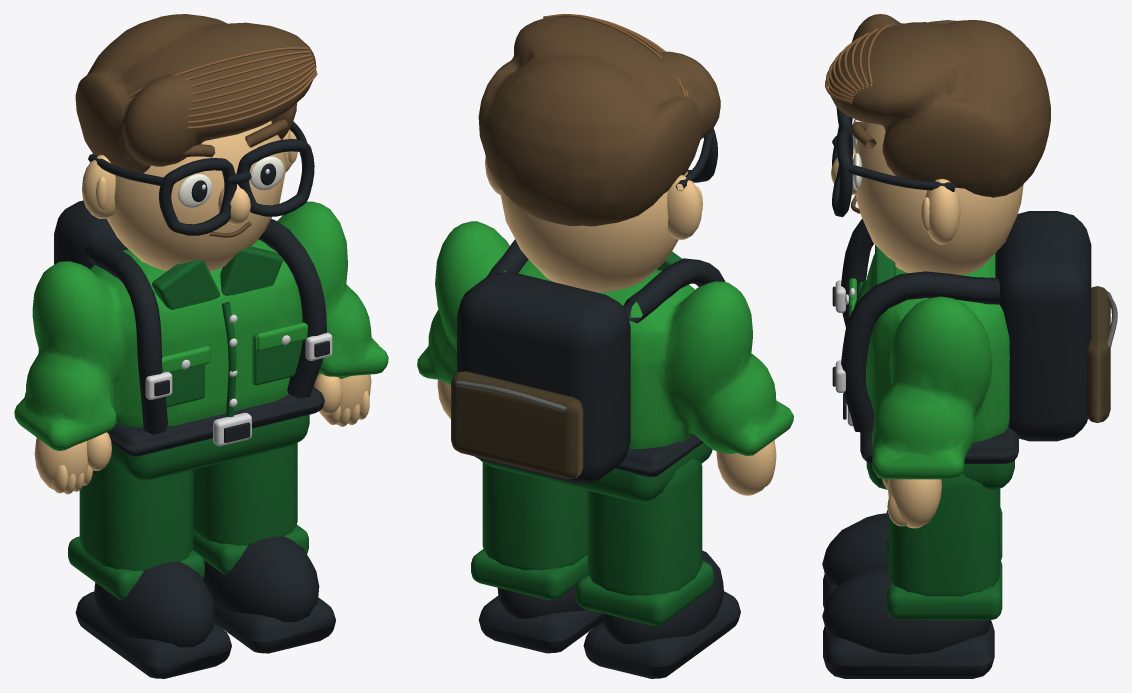
Rendered from hero-explorer.glb.
3 views of the same model, side by side, from view 1: azimuth 30°, elevation 25°; view 2: azimuth 150°, elevation 25°; view 3: azimuth 270°, elevation 25° (orthographic). The views are drawn at different scales.
Visible parts, largest first — view 1: hero-explorer; view 2: hero-explorer; view 3: hero-explorer.
Part boxes in pixels (x1=…): hero-explorer: x1=14, y1=14, x2=388, y2=678; hero-explorer: x1=417, y1=14, x2=793, y2=678; hero-explorer: x1=822, y1=14, x2=1117, y2=678.
Bounding box in the file's own units: 0.6884 × 1.16 × 0.508.
